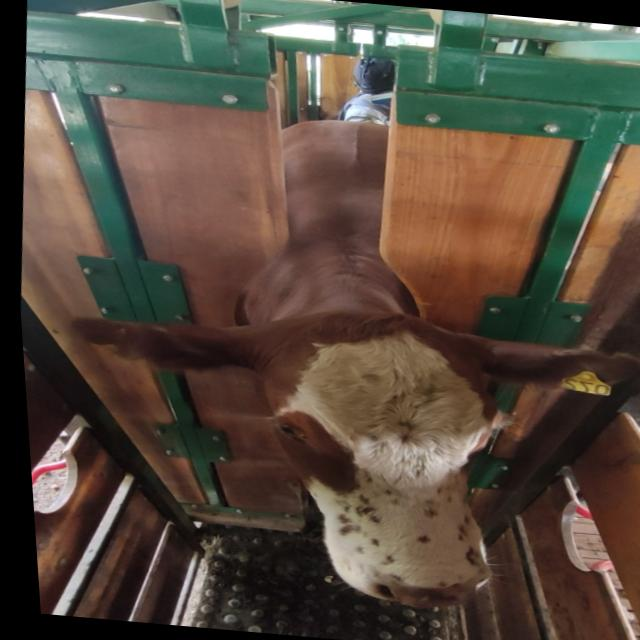cowFace: (238, 306, 514, 612)
